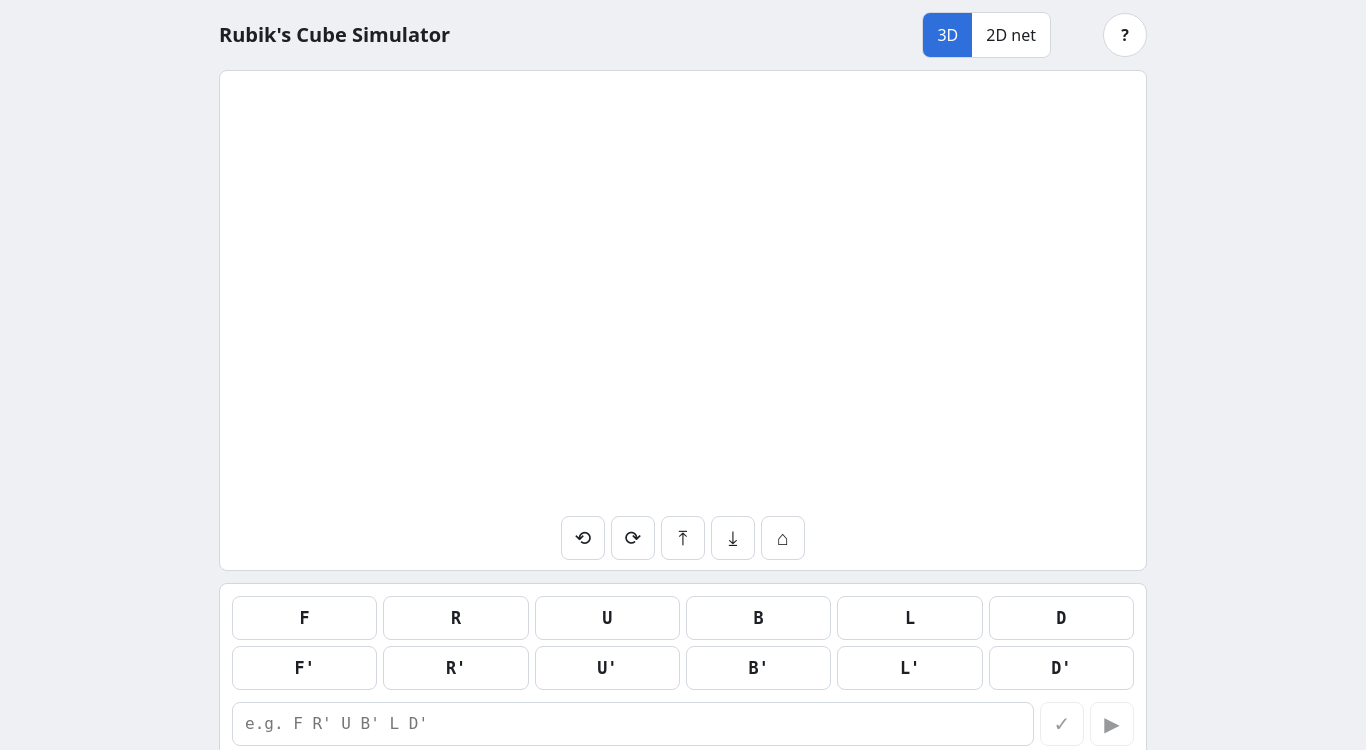
App › highlights an invalid token with the API error
Click the tab "2D net".
click(1011, 35)  # box [972,13,1050,57]
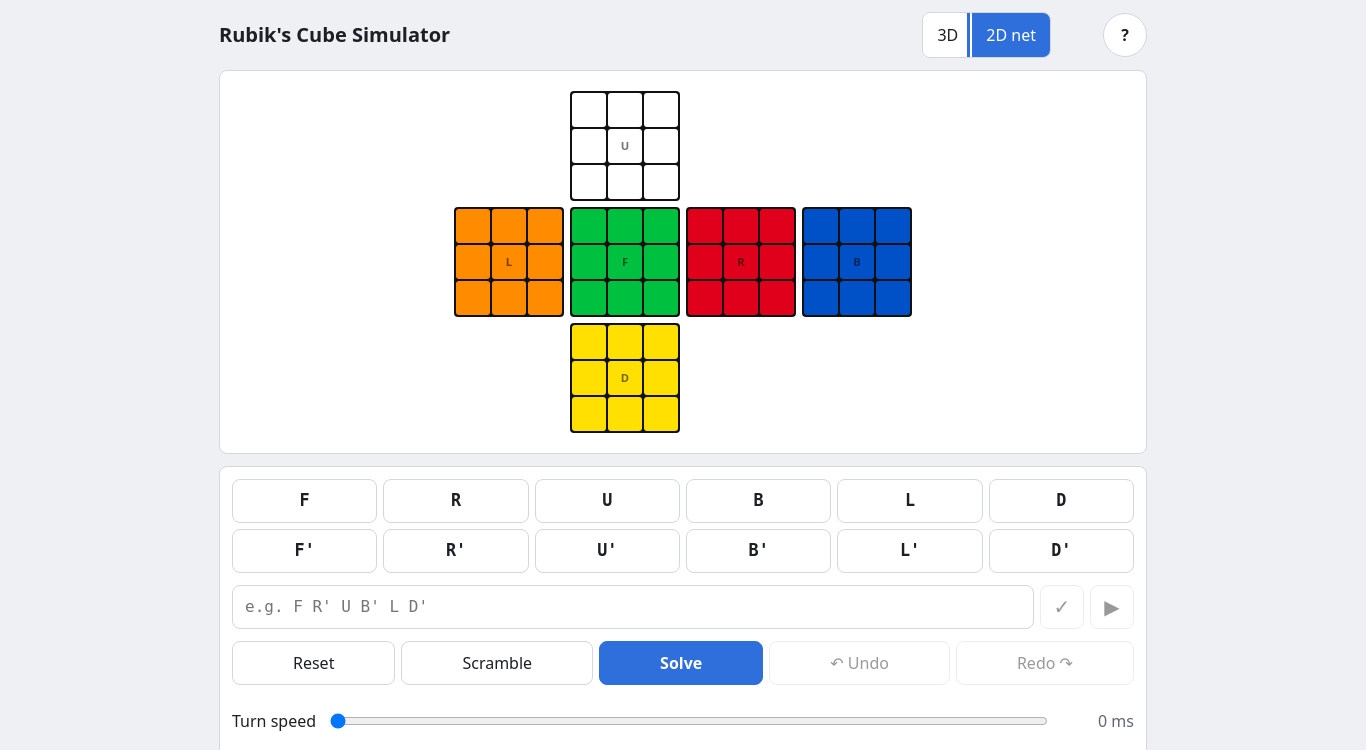
Type "F X U" into the field named "Move sequence".
click(633, 607); type("F X U")  # box [232,585,1034,629]
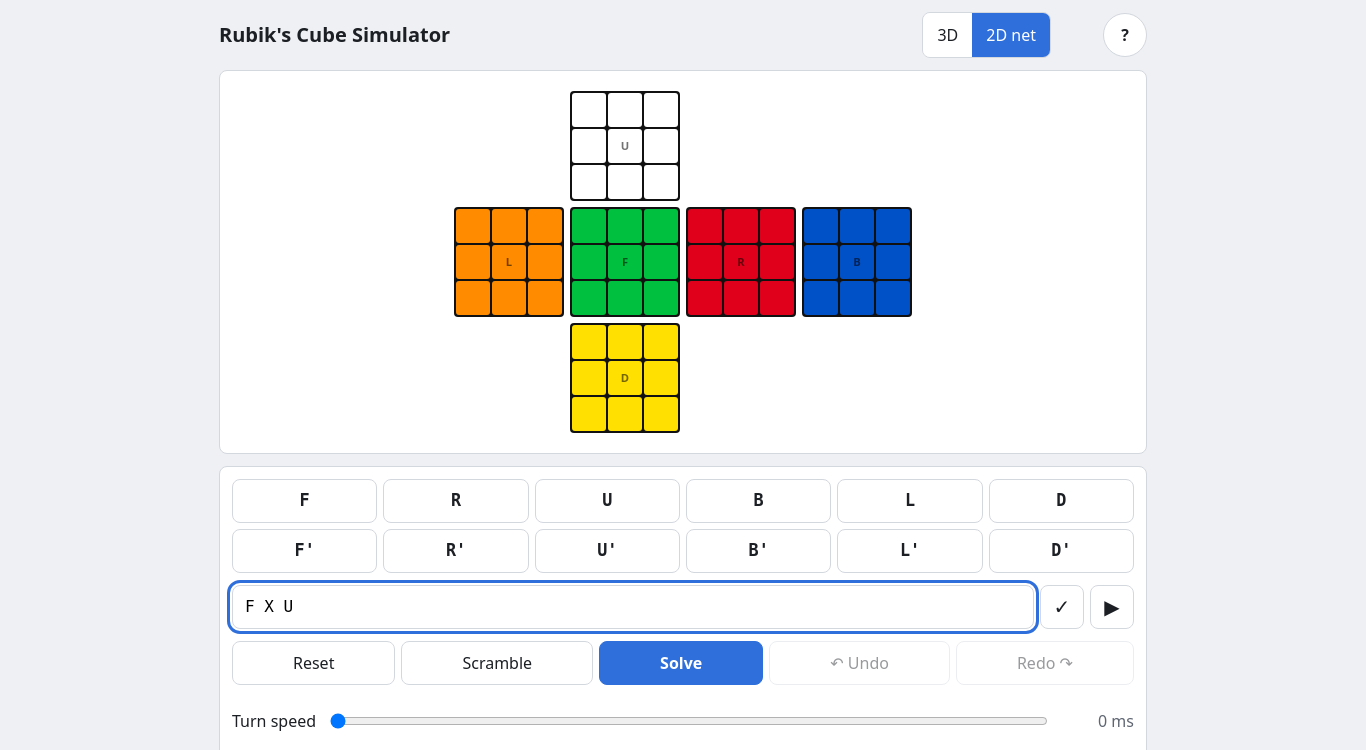
Click the button named "Apply sequence".
click(1062, 607)  # box [1040,585,1084,629]
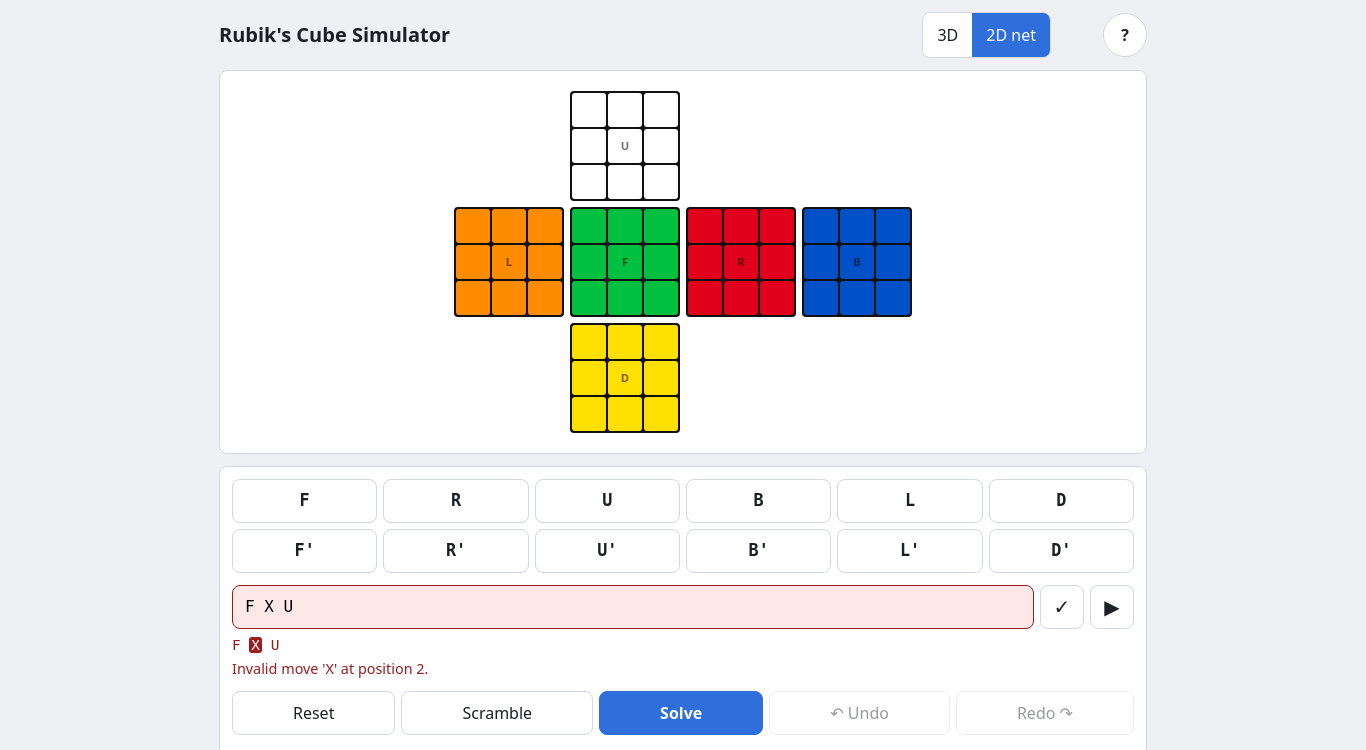
Expected: the message shows "Invalid move 'X' at position 2.", [232,659,428,678]
Expected: the text "X" is shown, [249,637,262,653]
